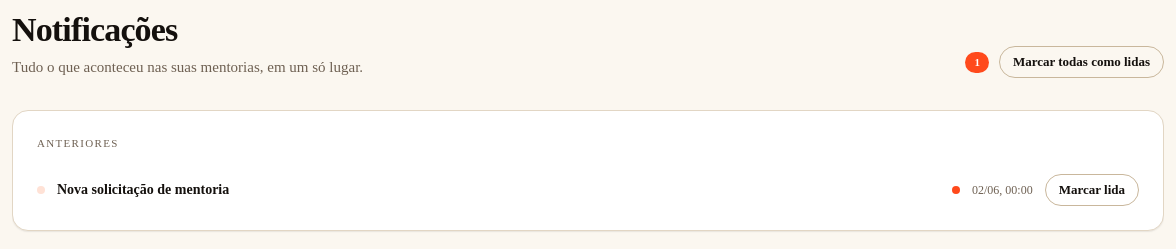
Test: NotificationsView (proof 7: list, counter & mark read) › shows unread count, lists notifications and marks one read
The image size is (1176, 249).
Expected: the text with test id "unread-count" reads "1", [974,56,980,68]
Expected: the text "Nova solicitação de mentoria" is shown, [57,182,229,197]
Click the button "Marcar lida" at point(1092, 190), box [1045,174,1139,206]
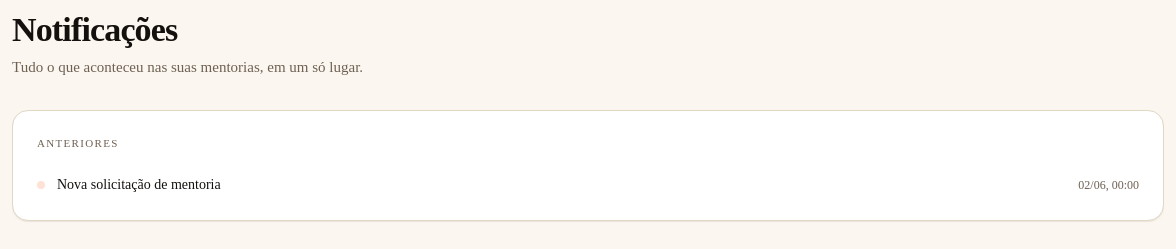
Now the text with test id "unread-count" is gone
